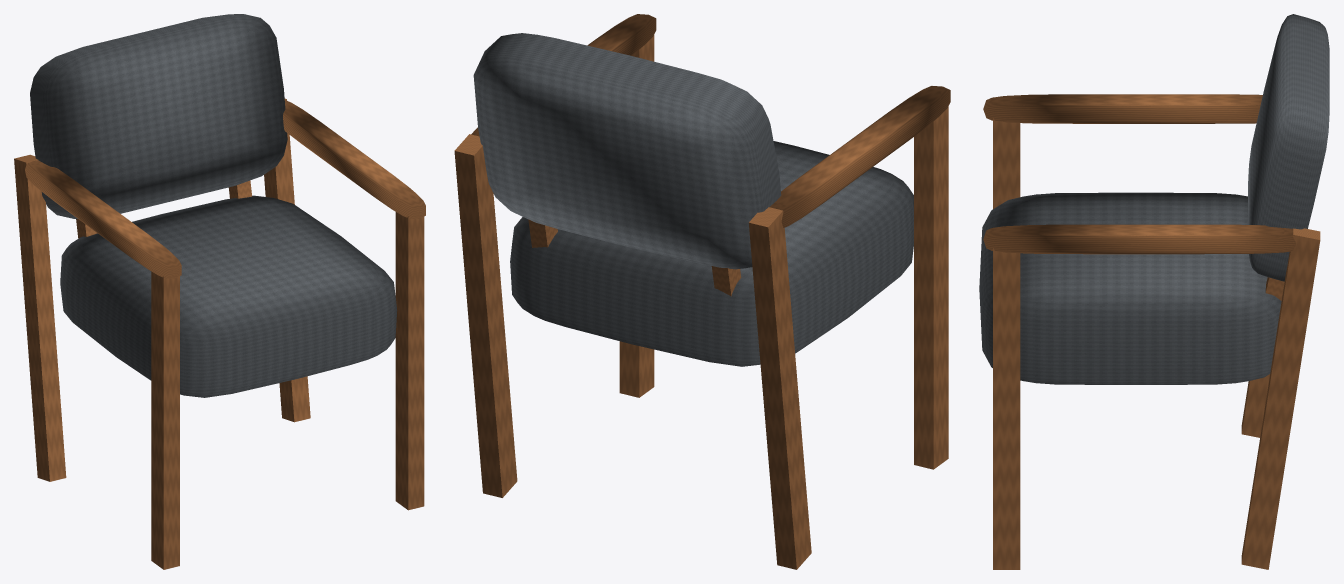
The picture shows the model from 3 angles, left to right: view 1: azimuth 30°, elevation 25°; view 2: azimuth 150°, elevation 25°; view 3: azimuth 270°, elevation 25°; orthographic projection. The views are drawn at different scales.
Visible parts, largest first — view 1: 1 seat, 2 backrest, 5 back_left_leg, 4 front_right_leg, 3 front_left_leg, 7 left_armrest, 8 right_armrest, 6 back_right_leg; view 2: 2 backrest, 1 seat, 5 back_left_leg, 6 back_right_leg, 3 front_left_leg, 7 left_armrest, 4 front_right_leg, 8 right_armrest, 9 backrest_left_support; view 3: 1 seat, 2 backrest, 6 back_right_leg, 8 right_armrest, 4 front_right_leg, 7 left_armrest, 3 front_left_leg, 5 back_left_leg.
Boxes of the visible parts, bbox=[...] form: 1 seat: bbox=[60, 195, 397, 397]; 2 backrest: bbox=[30, 14, 287, 218]; 5 back_left_leg: bbox=[14, 154, 66, 481]; 4 front_right_leg: bbox=[395, 212, 424, 510]; 3 front_left_leg: bbox=[151, 271, 179, 569]; 7 left_armrest: bbox=[25, 160, 181, 278]; 8 right_armrest: bbox=[283, 100, 425, 219]; 6 back_right_leg: bbox=[264, 98, 310, 422]; 2 backrest: bbox=[473, 33, 781, 269]; 1 seat: bbox=[510, 141, 913, 366]; 5 back_left_leg: bbox=[748, 207, 811, 569]; 6 back_right_leg: bbox=[454, 134, 517, 497]; 3 front_left_leg: bbox=[914, 105, 948, 469]; 7 left_armrest: bbox=[769, 86, 950, 227]; 4 front_right_leg: bbox=[619, 33, 654, 397]; 8 right_armrest: bbox=[471, 14, 656, 136]; 9 backrest_left_support: bbox=[711, 266, 741, 296]; 1 seat: bbox=[979, 192, 1281, 384]; 2 backrest: bbox=[1248, 14, 1329, 281]; 6 back_right_leg: bbox=[1241, 228, 1320, 569]; 8 right_armrest: bbox=[983, 224, 1295, 254]; 4 front_right_leg: bbox=[993, 248, 1020, 569]; 7 left_armrest: bbox=[983, 94, 1262, 123]; 3 front_left_leg: bbox=[993, 118, 1020, 208]; 5 back_left_leg: bbox=[1241, 374, 1269, 437].
Bounding box in the file's own units: 0.69 × 1 × 0.72.
2 materials, 2 textured.
